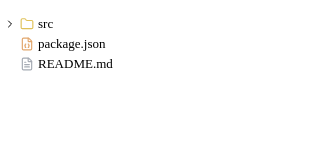
FileTreePanel › expands a directory on click and loads its children
Click src directory to expand
Click the text "src" at (46, 24), box [38,16,53,32]
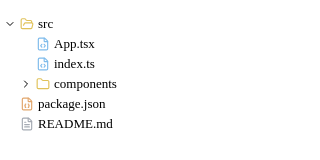
Result: the text "App.tsx" is shown at [54,36,95,52]
Result: the text "index.ts" is shown at [54,56,95,72]
Result: the text "components" is shown at [54,76,117,92]
